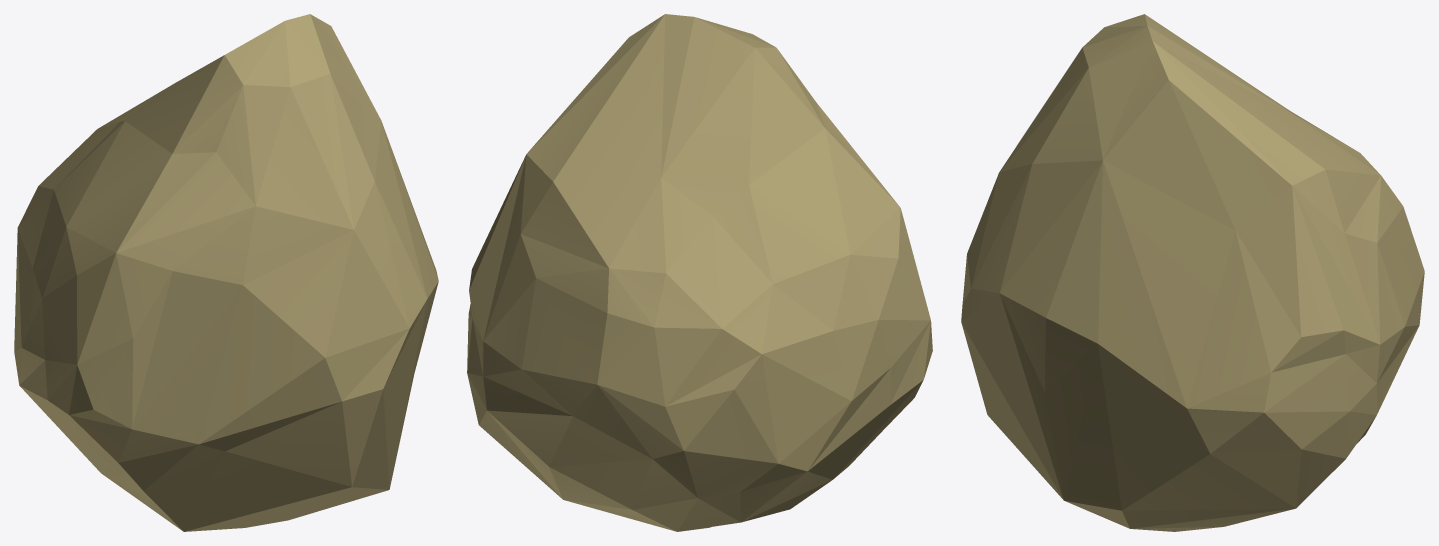
The model's file is SM_rock_82.fbx.
The picture shows the model from 3 angles, left to right: view 1: azimuth 30°, elevation 25°; view 2: azimuth 150°, elevation 25°; view 3: azimuth 270°, elevation 25°; orthographic projection. The views are drawn at different scales.
Parts seen in each view (by area): view 1: rock_82; view 2: rock_82; view 3: rock_82.
Boxes of the visible parts, left/top/right/bottom form: rock_82: left=14, top=14, right=438, bottom=531; rock_82: left=467, top=14, right=932, bottom=531; rock_82: left=961, top=14, right=1424, bottom=531.
Size of the model in its own units: 143 by 168 by 145.
